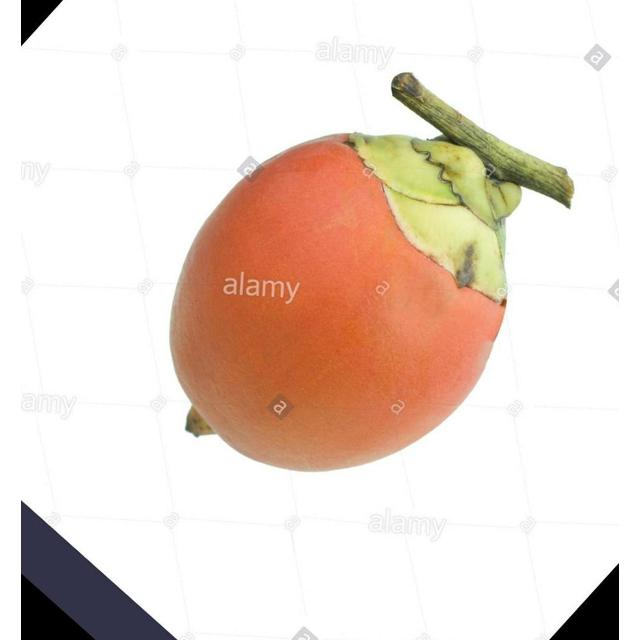good: (168, 134, 521, 474)
